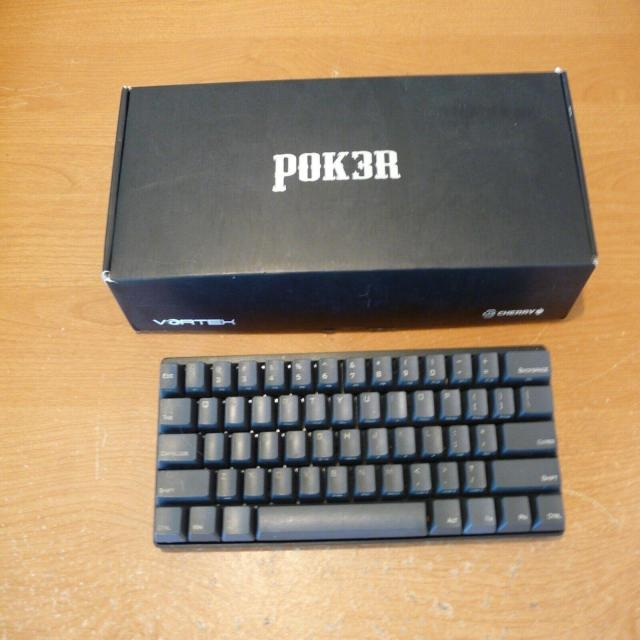keyboard: (151, 342, 569, 548)
